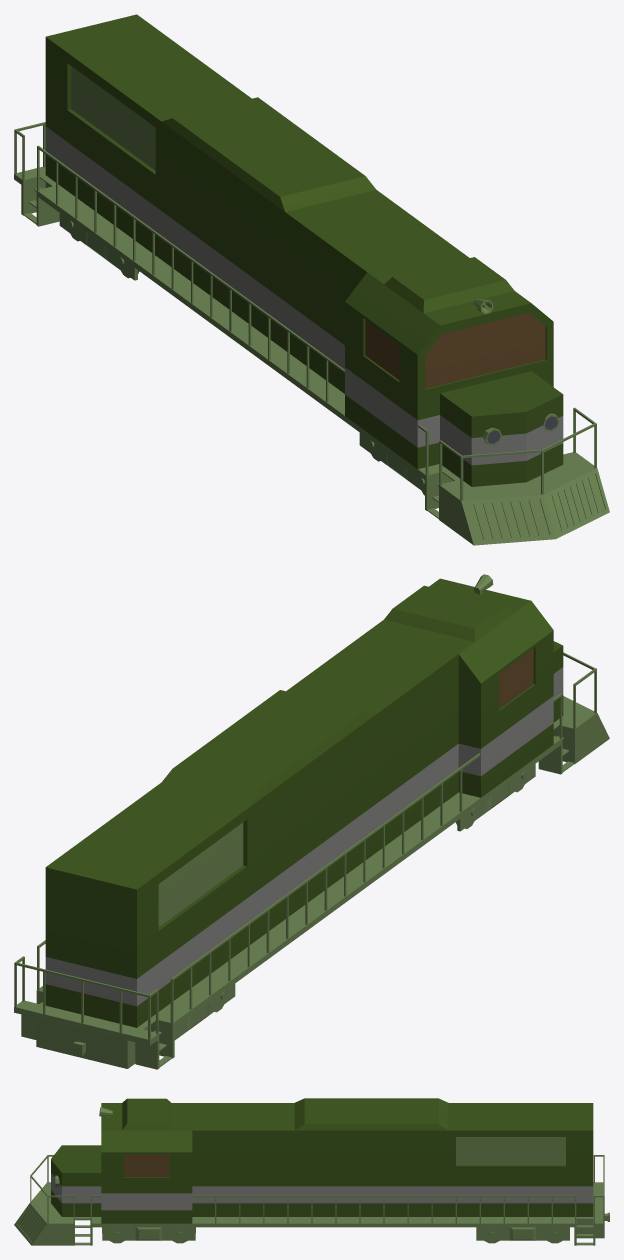
File: Train_03.fbx
3 views of the same model, one above another, from view 1: azimuth 30°, elevation 25°; view 2: azimuth 150°, elevation 25°; view 3: azimuth 270°, elevation 25° (orthographic). The views are drawn at different scales.
Visible parts, largest first — view 1: Train_03; view 2: Train_03; view 3: Train_03.
Boxes of the visible parts, x1,y1,x2,y2 form: Train_03: (14, 14, 609, 545); Train_03: (14, 574, 609, 1069); Train_03: (14, 1098, 609, 1245).
Bounding box in the file's own units: 3.5 × 4.78 × 21.3.
